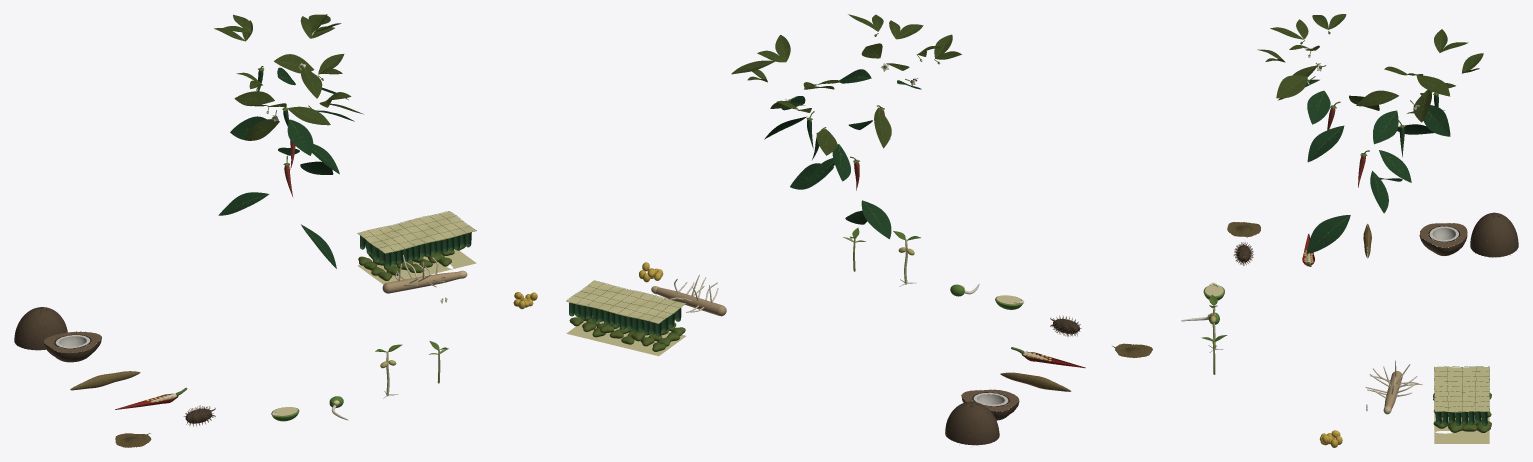
Rendered from plant.glb.
3 views of the same model, side by side, from view 1: azimuth 30°, elevation 25°; view 2: azimuth 150°, elevation 25°; view 3: azimuth 270°, elevation 25° (orthographic).
Parts seen in each view (by area): view 1: leaf-section, leaves-lower, coconut, leaves-upper, root-tip, splitting-pod; view 2: leaf-section, leaves-lower, coconut, leaves-upper, root-tip, splitting-pod-r; view 3: leaves-lower, leaf-section, coconut, leaves-upper, root-tip, winged-fruit, hooked-fruit.
Boxes of the visible parts, x1,y1,x2,y2 form: leaf-section: (357,211,476,284); leaves-lower: (218,14,363,268); coconut: (14,307,101,362); leaves-upper: (214,14,351,107); root-tip: (382,255,467,293); splitting-pod: (70,371,140,390); leaf-section: (566,280,686,356); leaves-lower: (731,43,921,239); coconut: (945,389,1019,445); leaves-upper: (747,14,961,112); root-tip: (651,274,726,316); splitting-pod-r: (1000,372,1071,391); leaves-lower: (1276,65,1450,253); leaf-section: (1433,366,1491,443); coconut: (1419,212,1518,257); leaves-upper: (1257,14,1483,98); root-tip: (1365,360,1422,414); winged-fruit: (1227,222,1260,237); hooked-fruit: (1233,242,1253,265).
Size of the model in its own units: 1.8 by 1.13 by 1.14.
